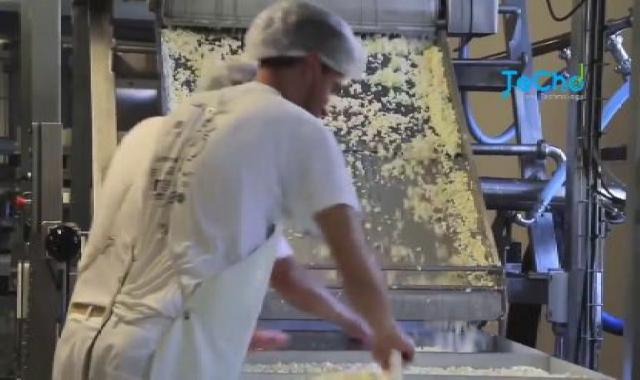hairnet: (226, 3, 374, 86)
